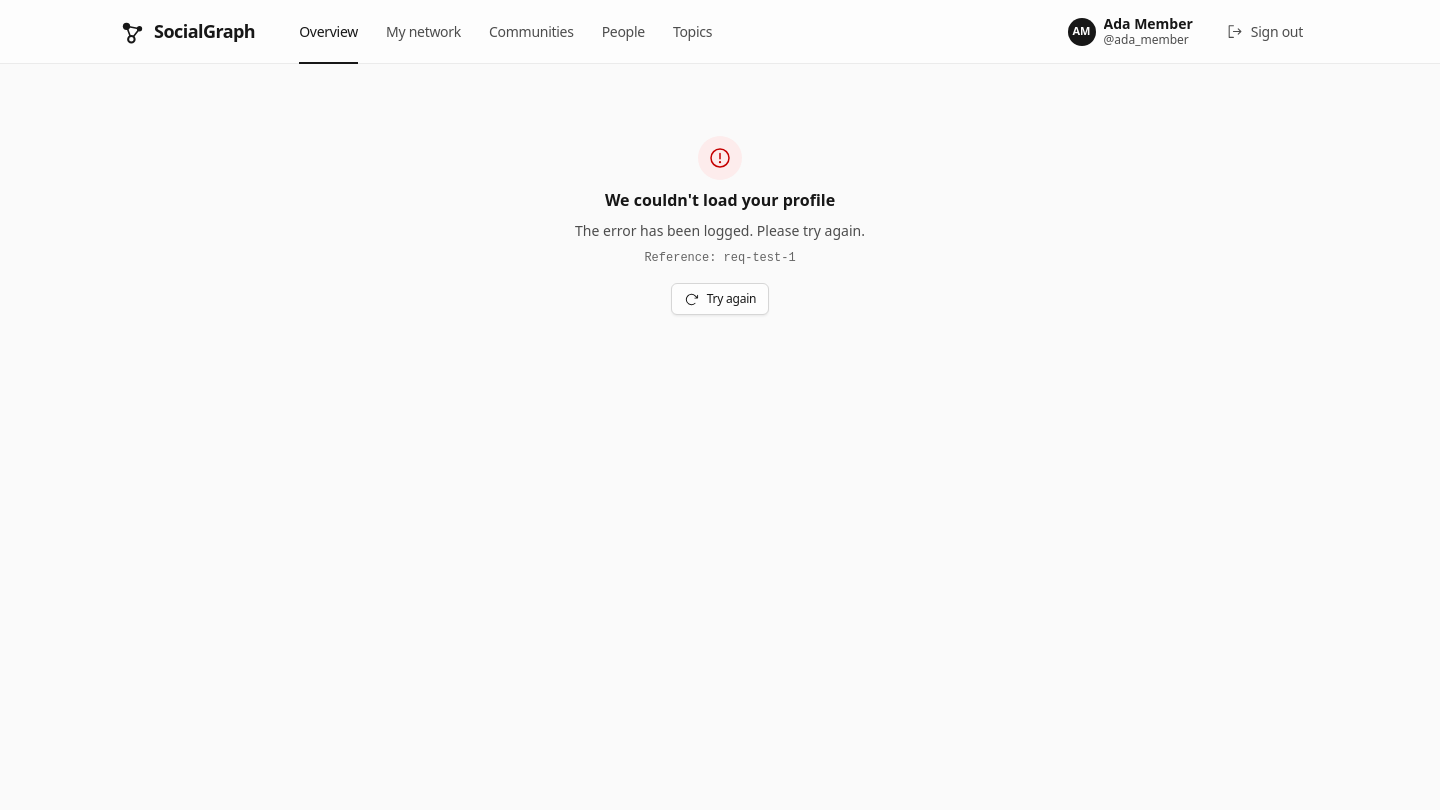
Test: ProfileGate › shows other failures with a retry
The width and height of the screenshot is (1440, 810).
Expected: the text "We couldn't load your profile" is shown, top-left (605, 188), bottom-right (835, 212)
Expected: the text "Reference: req-test-1" is shown, top-left (644, 249), bottom-right (796, 267)
What coordinates should you click on to do the following:
click the button "Try again"
I would click on:
 (720, 299)
Its box is top-left (671, 283), bottom-right (769, 315).
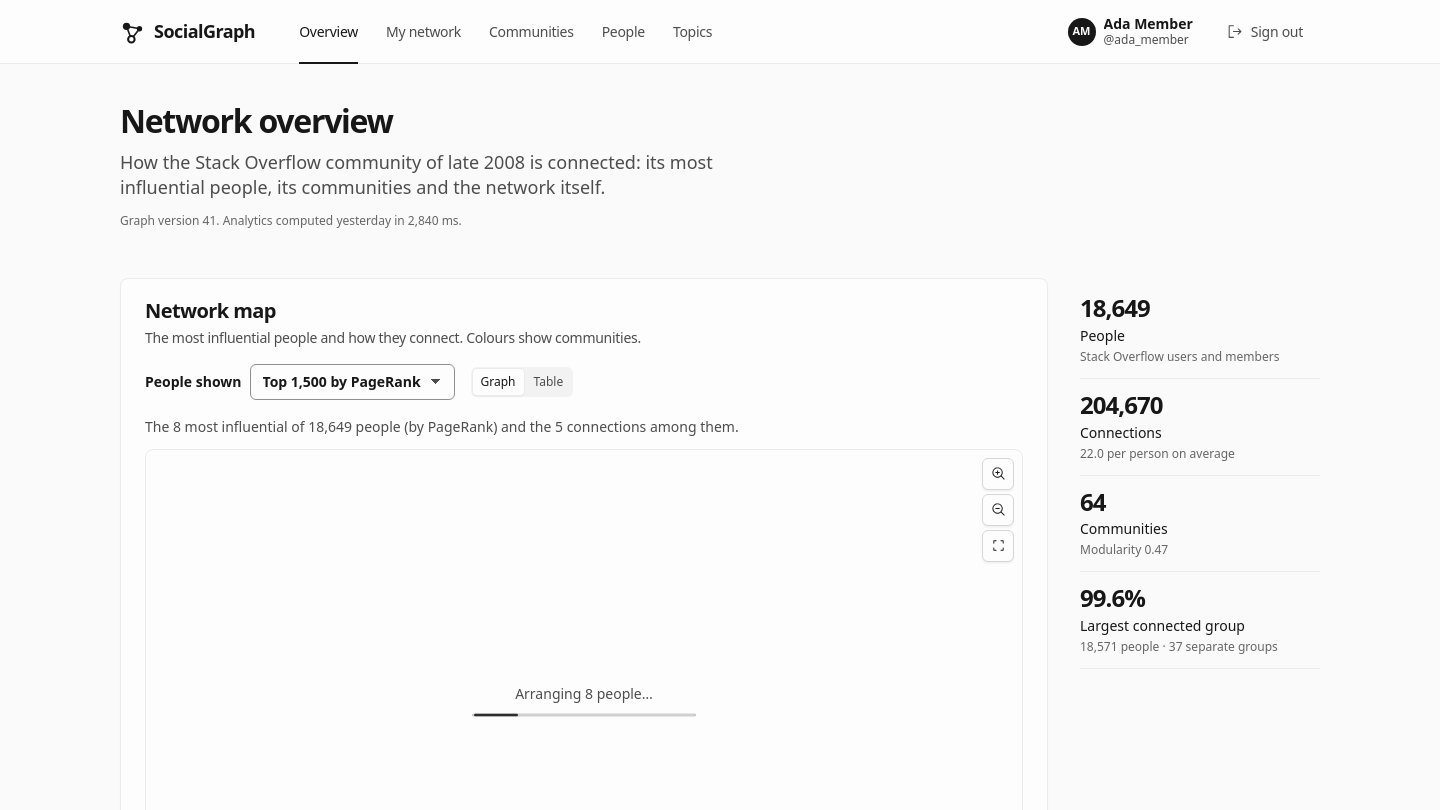
Expected: the link "AM Ada Member @ada_member" is shown, top-left (1060, 12), bottom-right (1201, 51)
Expected: the heading "Network overview" is shown, top-left (120, 99), bottom-right (393, 142)
